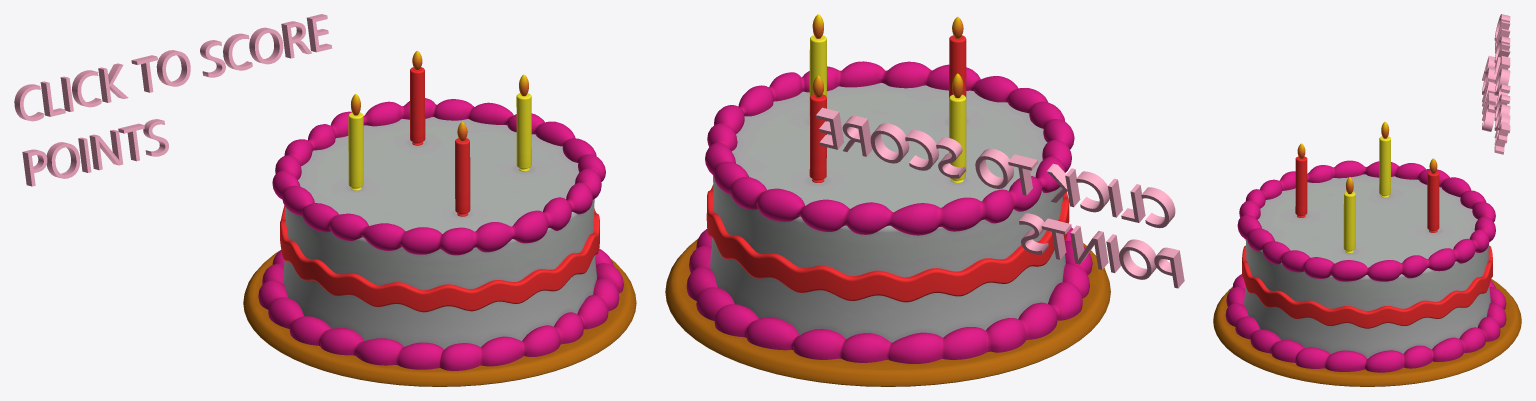
Rendered from birthdayfbx.fbx.
The picture shows the model from 3 angles, left to right: view 1: azimuth 30°, elevation 25°; view 2: azimuth 150°, elevation 25°; view 3: azimuth 270°, elevation 25°; orthographic projection. The views are drawn at different scales.
Visible parts, largest first — view 1: node_id116, node_id154 (×2); view 2: node_id116, node_id154 (×2); view 3: node_id116, node_id154 (×2).
Boxes of the visible parts, box(x1,y1,x2,y2) form: node_id116: box(243, 50, 636, 386); node_id154 (×2): box(14, 14, 332, 186); node_id116: box(665, 14, 1110, 386); node_id154 (×2): box(816, 107, 1184, 288); node_id116: box(1213, 121, 1521, 386); node_id154 (×2): box(1482, 14, 1510, 154).
Bounding box in the file's own units: 0.7619 × 0.3364 × 0.512.
Materials: 3 (1 with a texture image).
